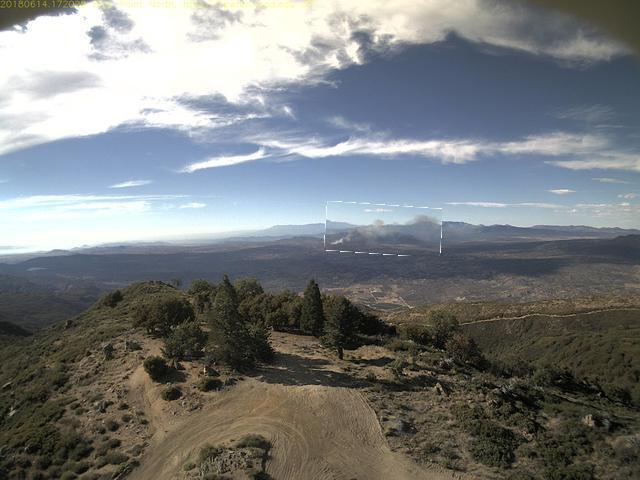smoke: (326, 204, 444, 257)
